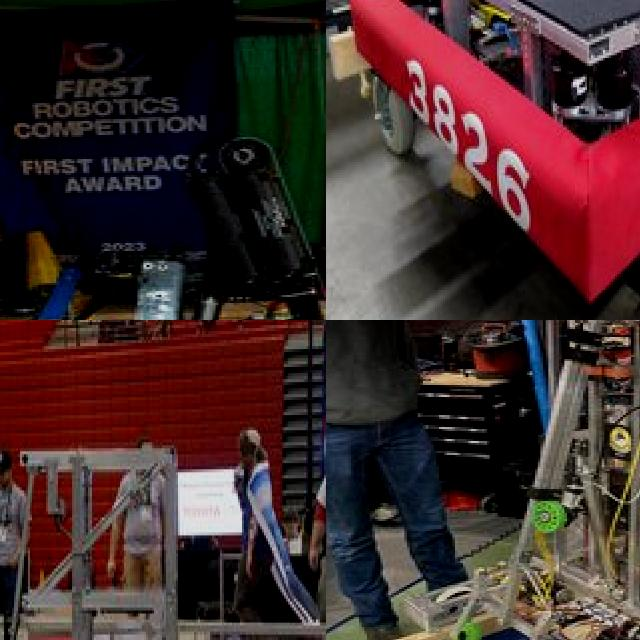FRC-Robots: (394, 320, 640, 640), (337, 0, 640, 220), (0, 127, 326, 320), (0, 448, 200, 640)
